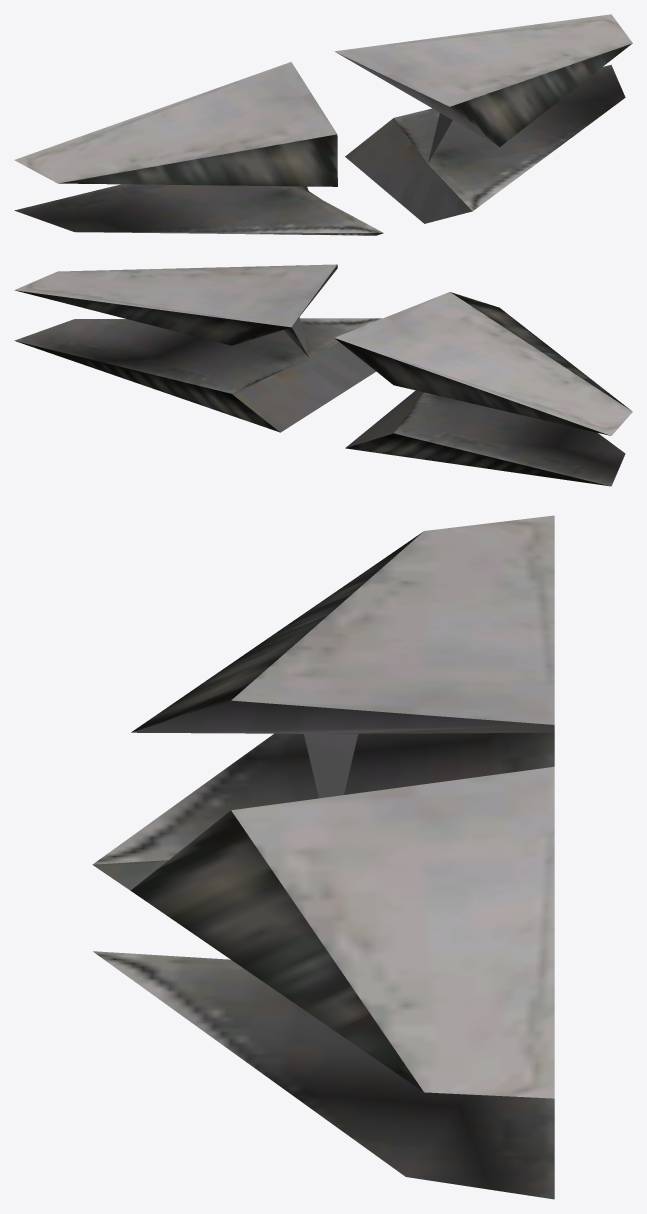
File: hutt_fighter_heavy_struct_s02_l3.fbx
The picture shows the model from 3 angles, top to bottom: view 1: azimuth 30°, elevation 25°; view 2: azimuth 150°, elevation 25°; view 3: azimuth 270°, elevation 25°; orthographic projection. The views are drawn at different scales.
Visible parts, largest first — view 1: mesh_node; view 2: mesh_node; view 3: mesh_node.
Part boxes in pixels (left/top/right/bottom): mesh_node: left=14, top=14, right=632, bottom=235; mesh_node: left=14, top=264, right=632, bottom=486; mesh_node: left=92, top=515, right=554, bottom=1199.
Bounding box in the file's own units: 28.24 × 4.92 × 9.46.
